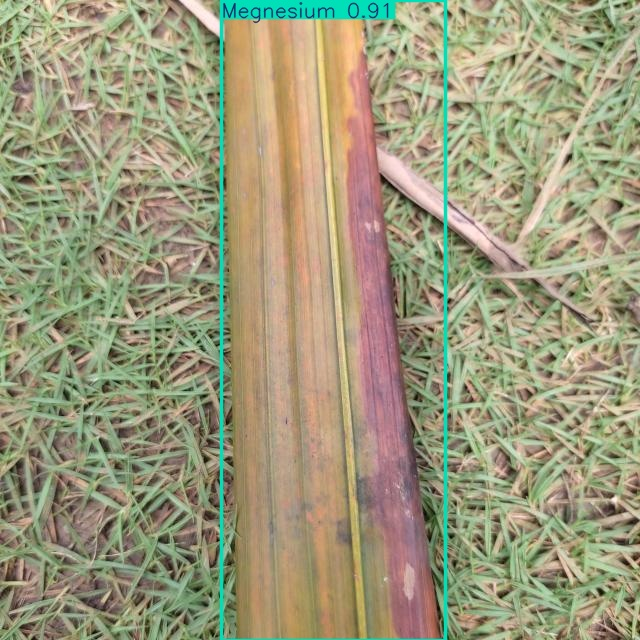Megnesium: (222, 0, 445, 640)
